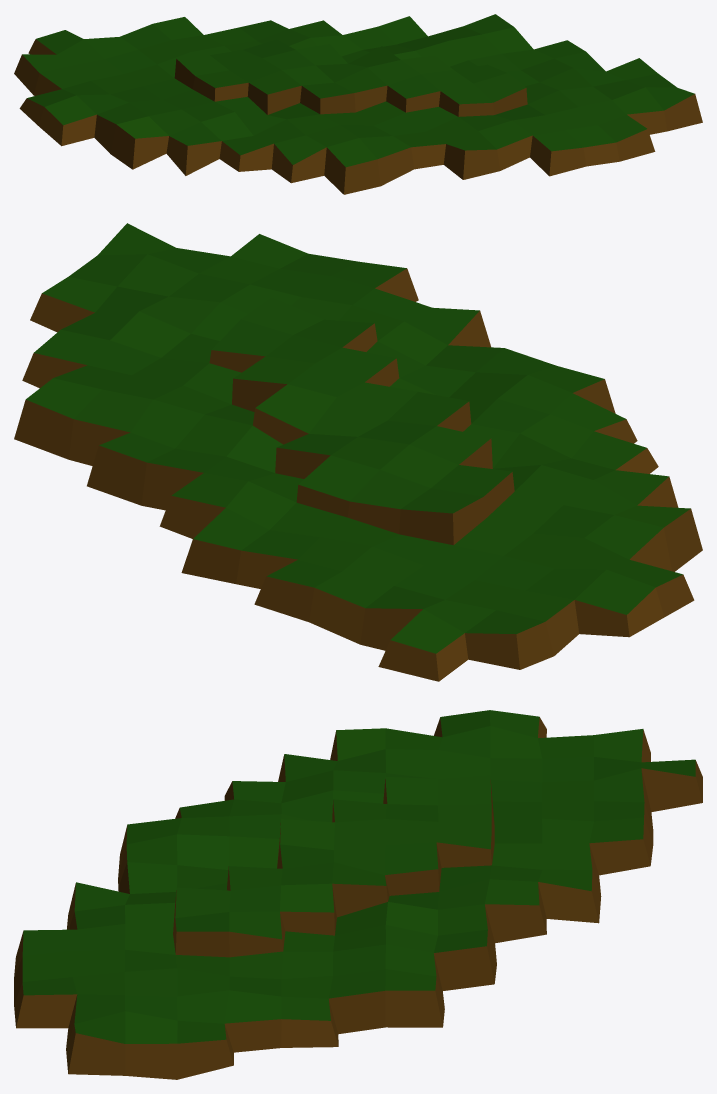
Rendered from Continent_2.fbx.
3 views of the same model, one above another, from view 1: azimuth 30°, elevation 25°; view 2: azimuth 150°, elevation 25°; view 3: azimuth 270°, elevation 25° (orthographic). The views are drawn at different scales.
Parts seen in each view (by area): view 1: Continent_2; view 2: Continent_2; view 3: Continent_2.
Part boxes in pixels (box(x1,y1,x2,y2)): Continent_2: box(14, 14, 702, 194); Continent_2: box(14, 223, 702, 681); Continent_2: box(14, 710, 702, 1079).
Size of the model in its own units: 0.8722 by 0.0735 by 0.7552.
